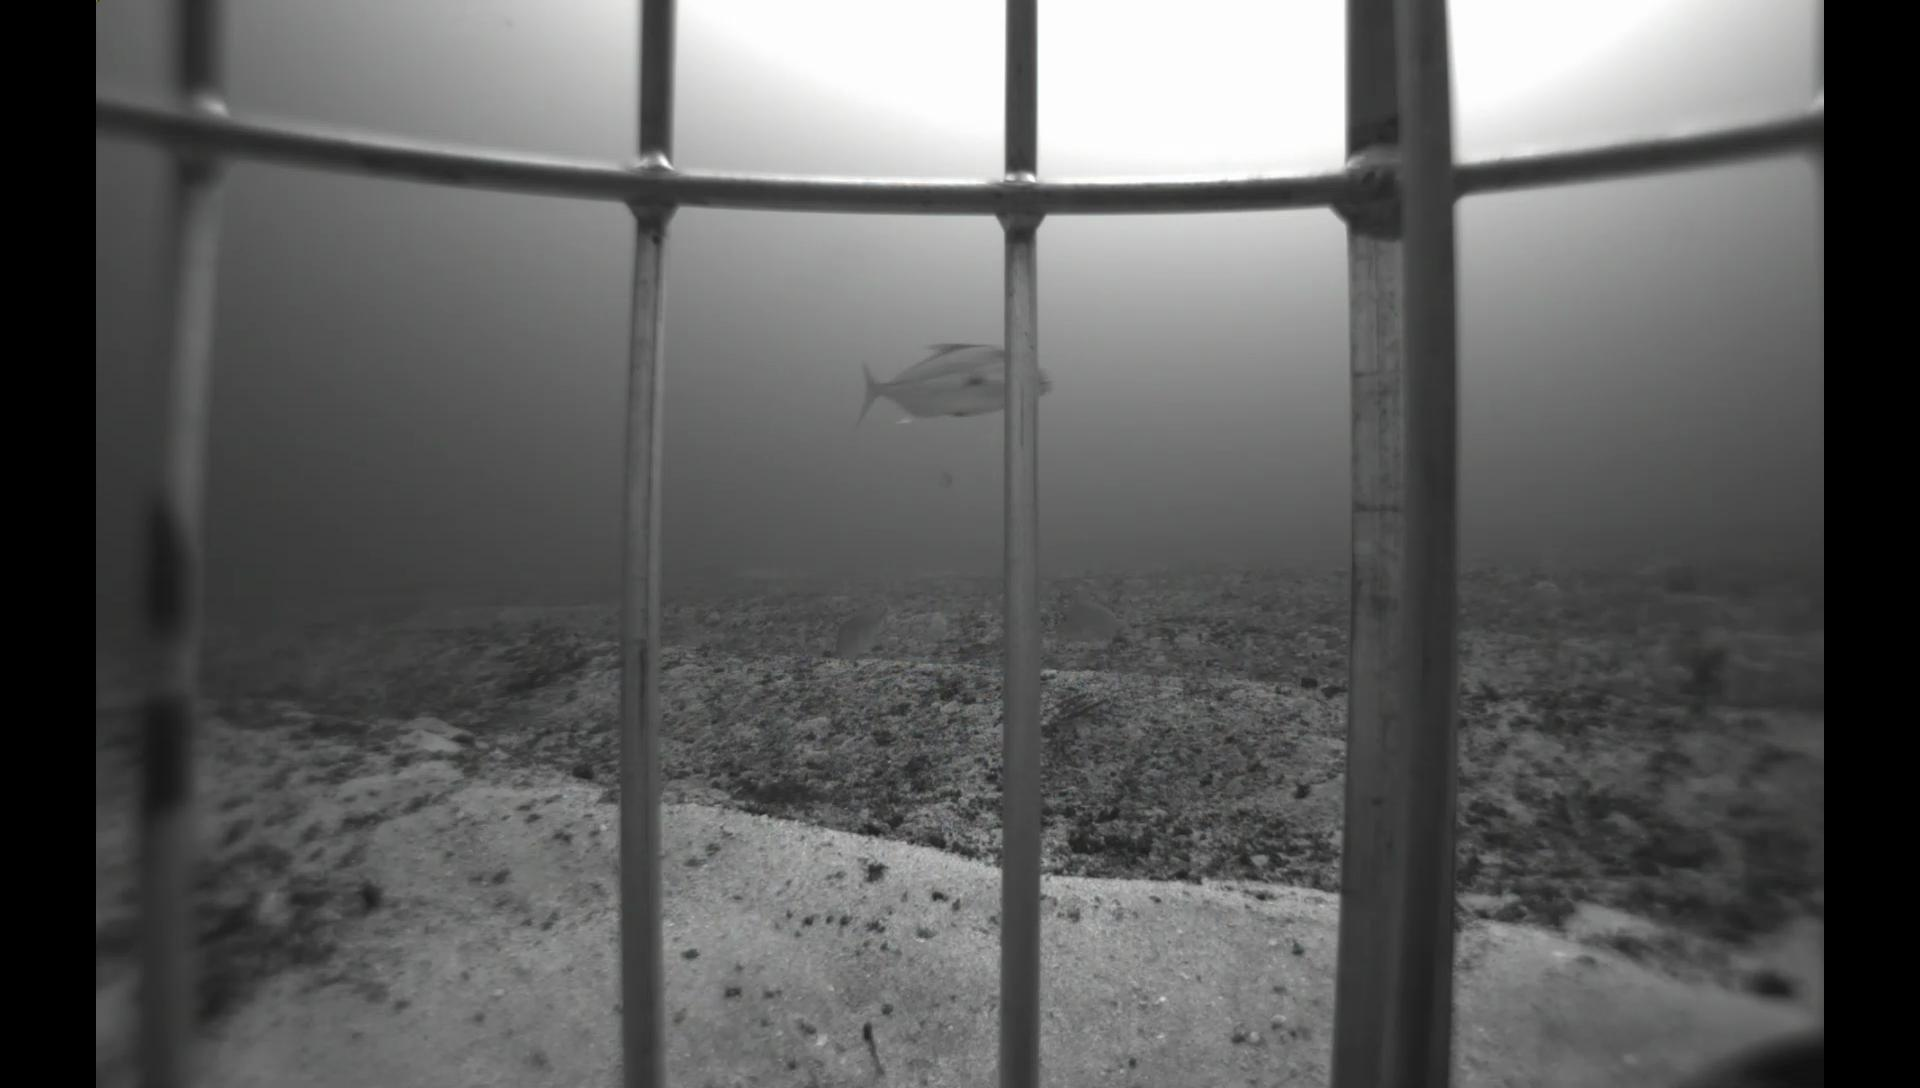CALAMUS-170210600: (1048, 595, 1151, 651), (832, 591, 899, 661)
EPINEPHELUSMORIO-170021211: (1648, 1021, 1828, 1088)
RHOMBOPLITESAURORUBENS-170152001: (928, 466, 963, 495)
SERIOLARIVOLIANA-170113105: (847, 336, 1063, 440)
